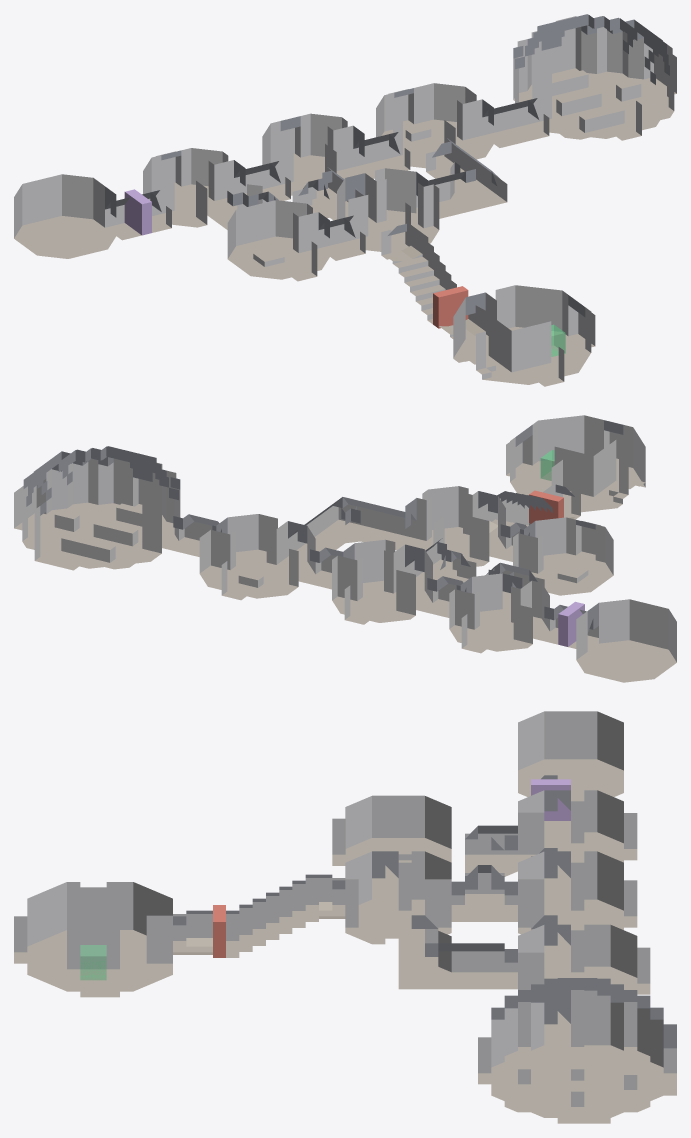
File: pod_military_01.glb
3 views of the same model, one above another, from view 1: azimuth 30°, elevation 25°; view 2: azimuth 150°, elevation 25°; view 3: azimuth 270°, elevation 25° (orthographic). The views are drawn at different scales.
Parts seen in each view (by area): view 1: room:6, room:7, room:2, room:3, room:5, room:1, corridor:8, corridor:1, room:4, room:0, room:2/reactor core, room:1/portals (+19 smaller); view 2: room:6, room:7, room:2, room:5, room:3, corridor:8, room:4, room:0, room:1, room:0/portals, room:1/portals, room:2/reactor core (+19 smaller); view 3: room:6, room:2, room:7, corridor:1, room:3, corridor:8, room:1, room:0, room:5, room:4, corridor:7, room:1/portals (+21 smaller).
Part boxes in pixels (x1,y1,x2,y2): room:6: (513, 14, 674, 139); room:7: (14, 174, 116, 258); room:2: (453, 285, 591, 384); room:3: (227, 200, 329, 279); room:5: (376, 83, 493, 169); room:1: (337, 168, 439, 252); corridor:8: (416, 138, 507, 218); corridor:1: (381, 223, 485, 338); room:4: (143, 148, 245, 227); room:0: (262, 113, 364, 198); room:2/reactor core: (488, 314, 551, 372); room:1/portals: (348, 173, 433, 246); room:6: (22, 446, 180, 569); room:7: (576, 599, 676, 682); room:2: (510, 415, 645, 513); room:5: (199, 514, 315, 598); room:3: (513, 517, 613, 595); corridor:8: (288, 497, 416, 561); room:4: (449, 573, 549, 651); room:0: (332, 539, 432, 622); room:1: (405, 486, 505, 569); room:0/portals: (337, 545, 415, 615); room:1/portals: (416, 491, 489, 564); room:2/reactor core: (554, 440, 616, 496); room:6: (491, 978, 676, 1117); room:2: (27, 882, 172, 991); room:7: (518, 711, 623, 801); corridor:1: (173, 874, 345, 957); room:3: (345, 795, 451, 882); corridor:8: (398, 915, 517, 989); room:1: (345, 851, 451, 944); room:0: (518, 851, 623, 944); room:5: (518, 924, 637, 1017); room:4: (518, 790, 623, 876); corridor:7: (465, 825, 517, 904); room:1/portals: (345, 862, 451, 927).
Size of the model in its own units: 65 by 10 by 50.
